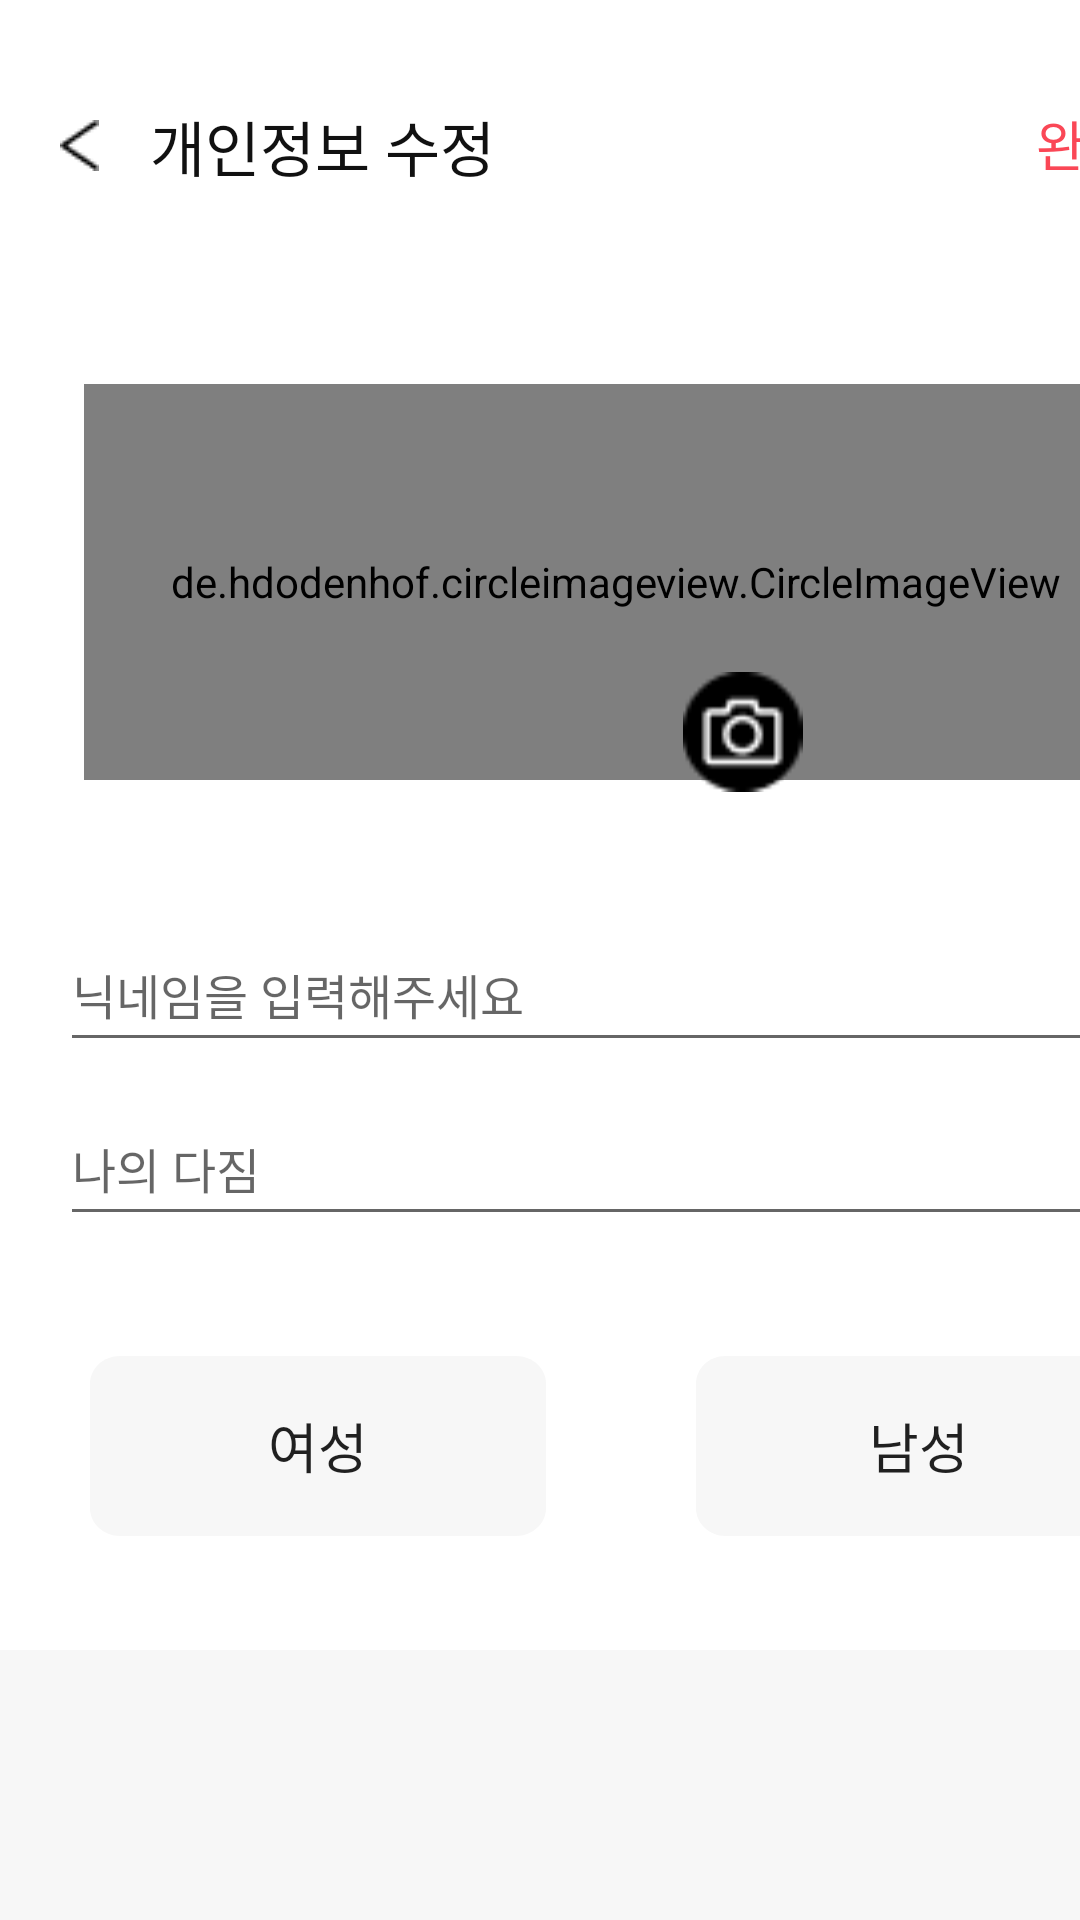

Icon bounding boxes for this 1080 × 1920 phone screenshot, format box(x1, y1, x2, y2):
leftarrow: box(60, 120, 99, 171)
